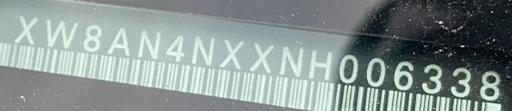letter: (44, 17, 78, 49), (473, 68, 503, 99), (218, 37, 246, 70), (188, 32, 214, 67), (390, 57, 416, 91), (420, 61, 446, 95), (134, 29, 162, 60), (276, 44, 302, 77), (335, 52, 361, 85), (11, 15, 39, 45), (248, 40, 272, 75), (308, 47, 332, 82), (448, 66, 472, 99), (106, 26, 130, 59), (80, 20, 102, 55), (364, 56, 390, 85), (165, 31, 187, 64)
